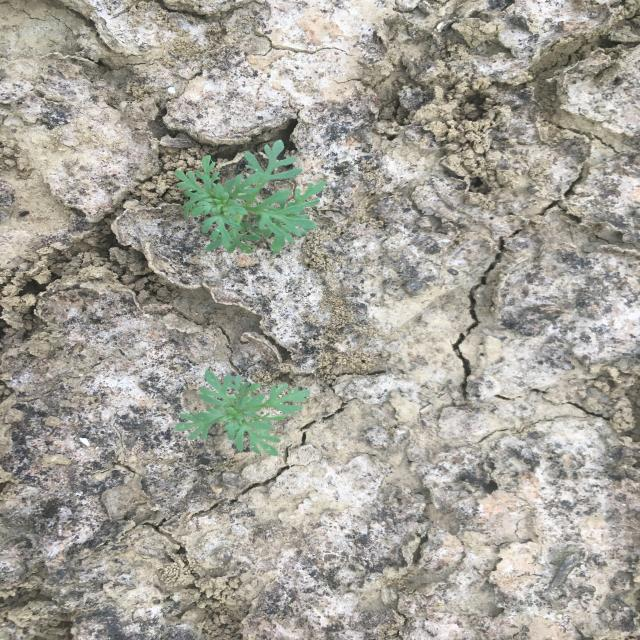Ragweed: (173, 138, 329, 256), (170, 367, 314, 458)
